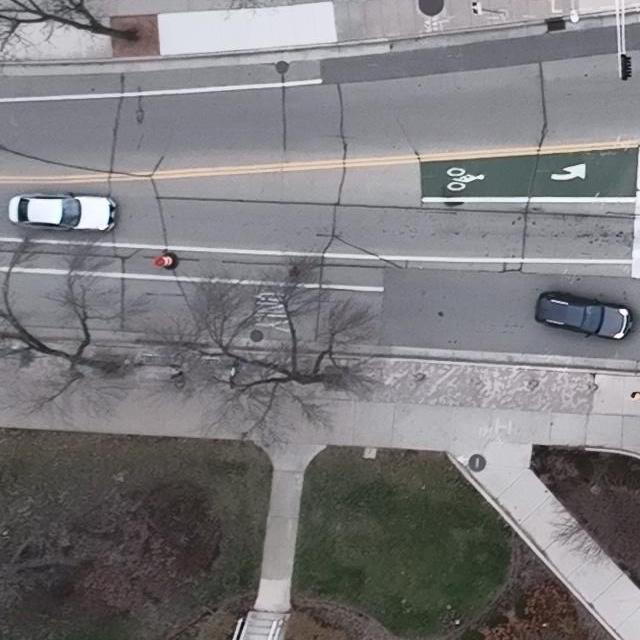car: (534, 291, 635, 341), (9, 193, 118, 233)
